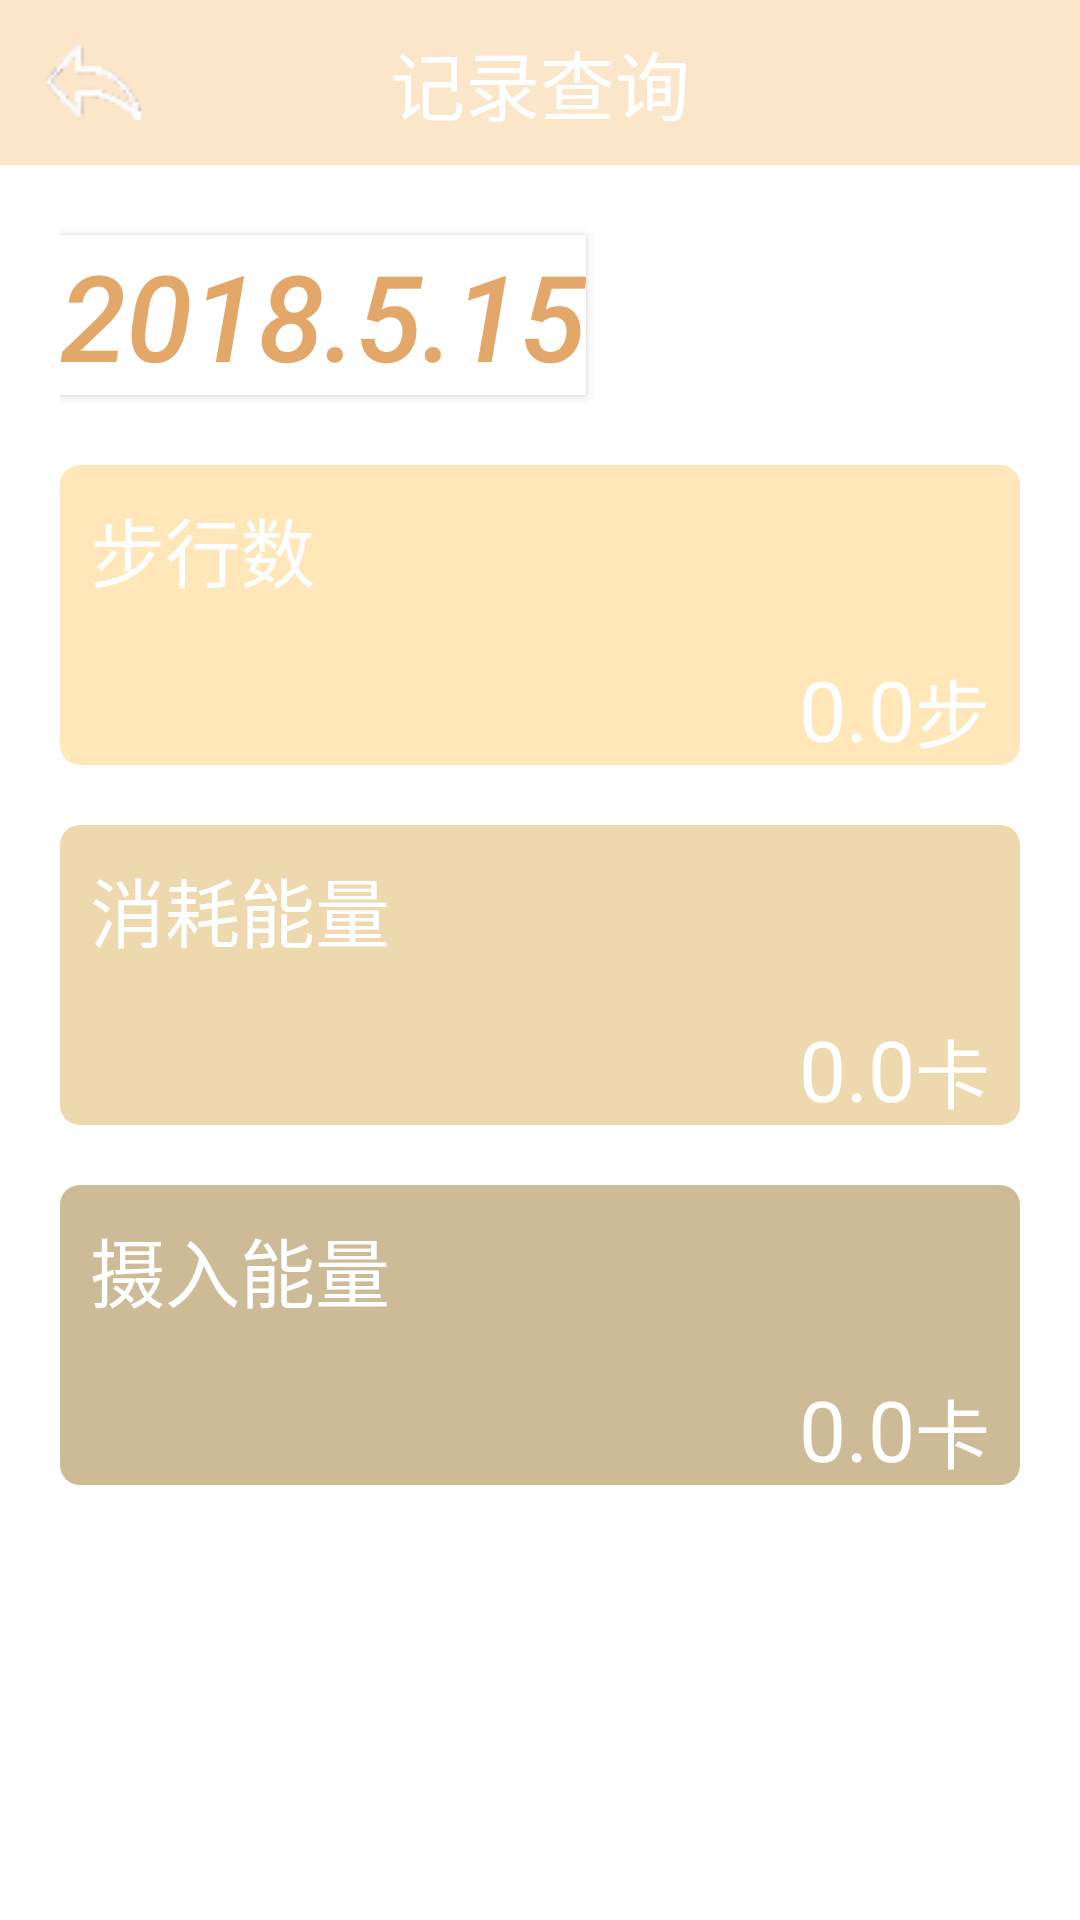

Screen size 1080px×1920px. Icon name, then its box in pixels as (x1, y1, x2, y2):
top tab back: (45, 45, 141, 120)
